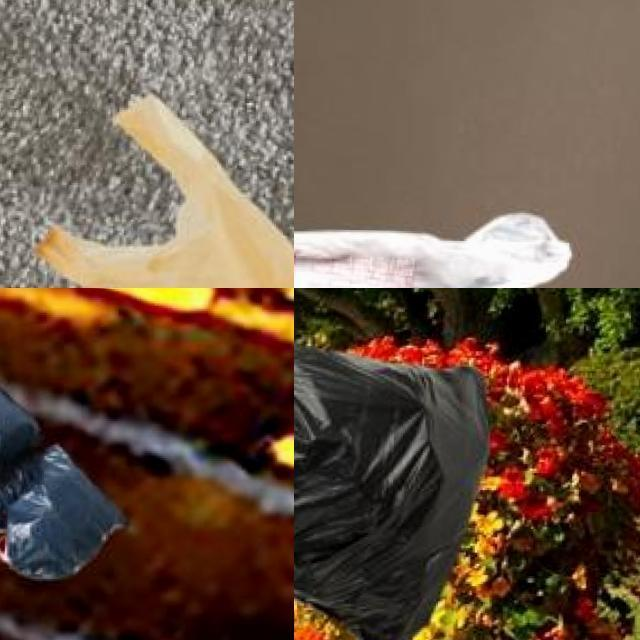waste: (294, 338, 489, 640), (38, 92, 294, 288), (294, 206, 570, 288), (0, 444, 124, 582), (0, 355, 44, 517)
